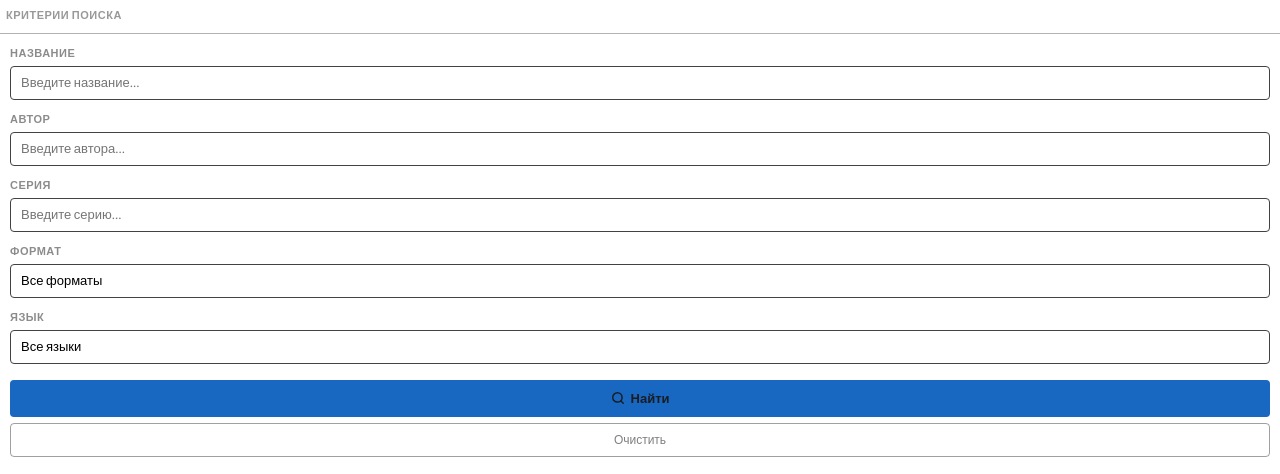
it: SearchTab › clears form on reset
Type "Дюна" into the field with placeholder "Введите название...". click: (640, 83)
box: x1=10 y1=66 x2=1270 y2=100
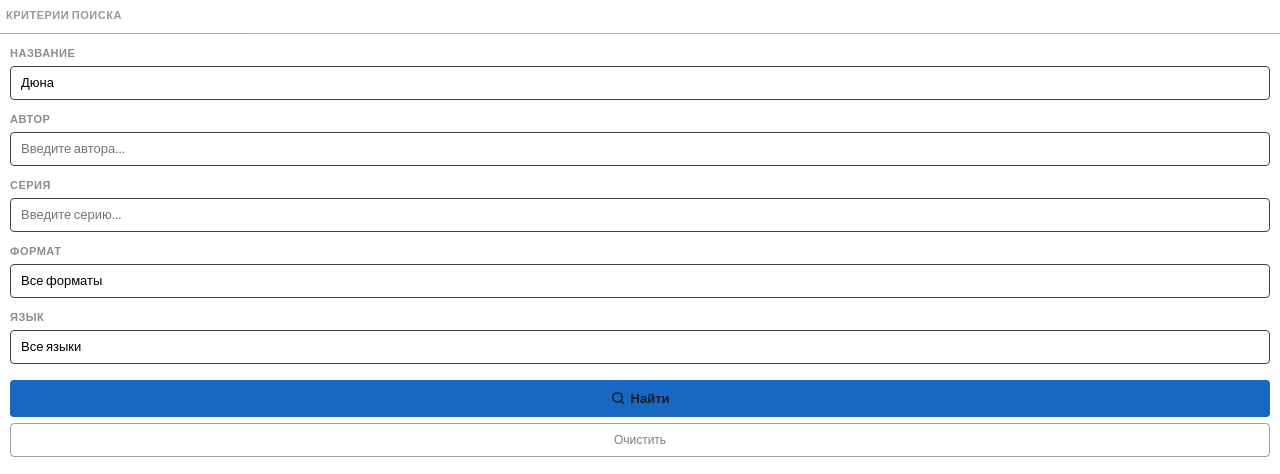
Click clear button
Click the button with class "search-tab__btn-clear". click: (640, 440)
box: x1=10 y1=423 x2=1270 y2=457
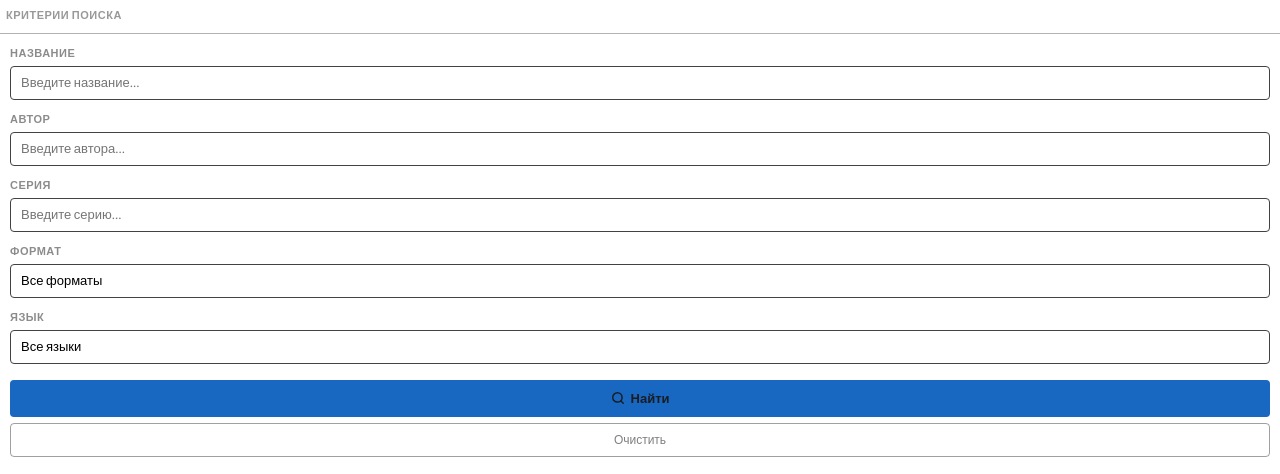
expect the field with placeholder "Введите название..." is empty: met, box x1=10 y1=66 x2=1270 y2=100
